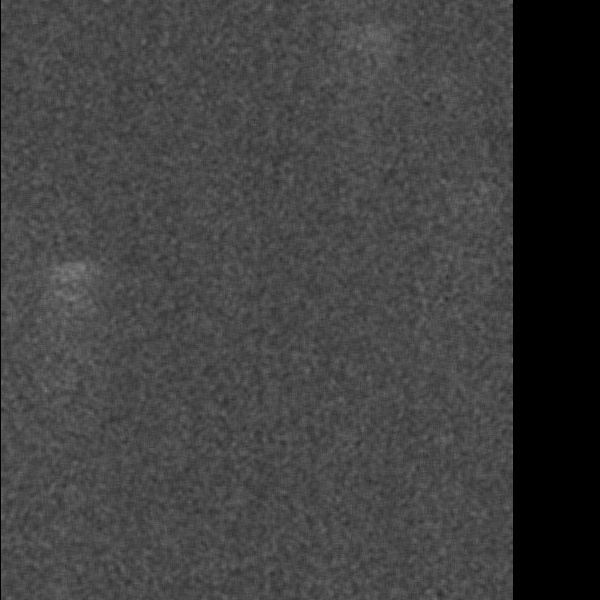spark: (403, 250, 448, 308), (357, 46, 392, 105), (199, 118, 226, 185), (190, 296, 219, 325), (199, 563, 218, 599)
